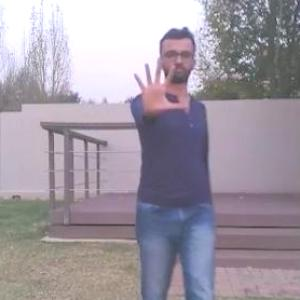follow_hand: (129, 54, 188, 115)
